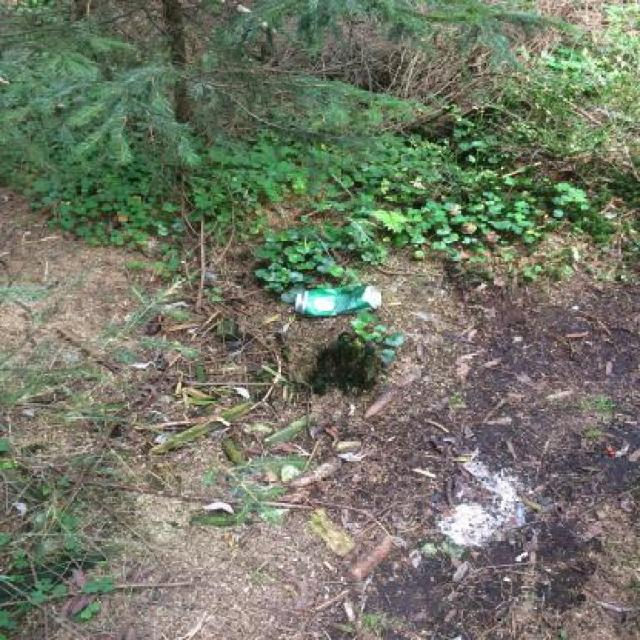Garbage: (295, 285, 381, 316)
